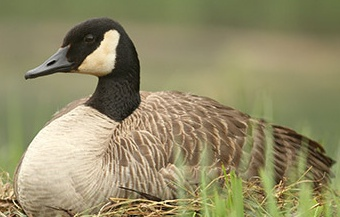goose: (13, 14, 337, 213)
